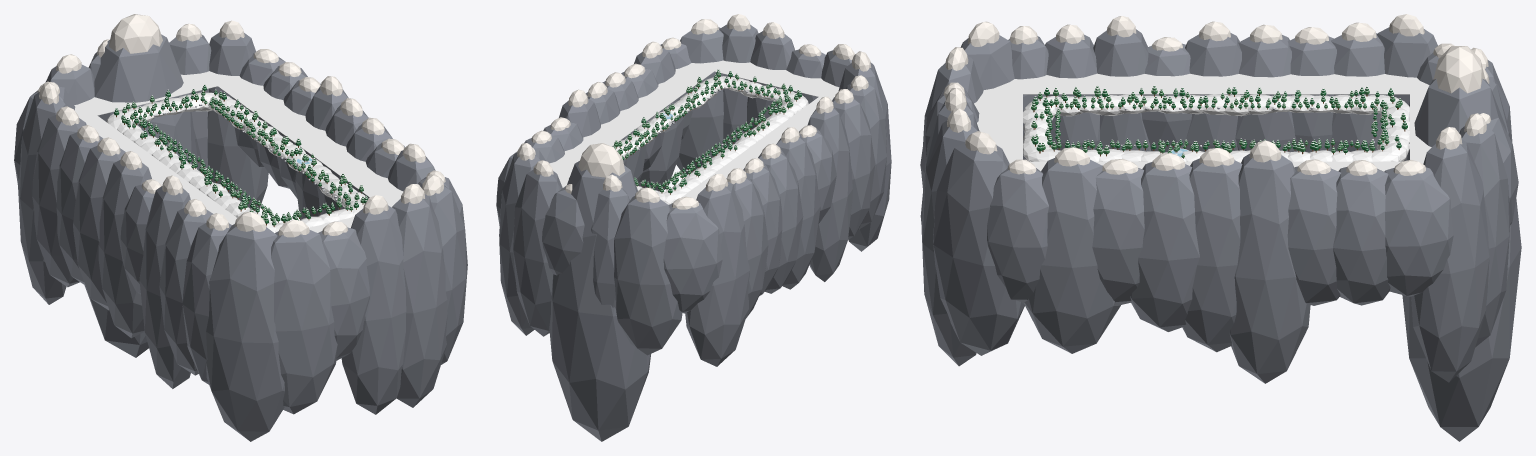
Rendered from CatCafe_Snowy_Backdrop.glb.
3 renders of one model, left to right at view 1: azimuth 30°, elevation 25°; view 2: azimuth 150°, elevation 25°; view 3: azimuth 270°, elevation 25°, orthographic. The views are drawn at different scales.
Visible parts, largest first — view 1: CatCafe_Snowy_Backdrop_HillsFar, CatCafe_Snowy_Backdrop_Snow, CatCafe_Snowy_Backdrop_Ground, CatCafe_Snowy_Backdrop_Hills, CatCafe_Snowy_Backdrop; view 2: CatCafe_Snowy_Backdrop_HillsFar, CatCafe_Snowy_Backdrop_Snow, CatCafe_Snowy_Backdrop_Ground, CatCafe_Snowy_Backdrop_Hills, CatCafe_Snowy_Backdrop; view 3: CatCafe_Snowy_Backdrop_HillsFar, CatCafe_Snowy_Backdrop_Snow, CatCafe_Snowy_Backdrop_Ground, CatCafe_Snowy_Backdrop_Hills, CatCafe_Snowy_Backdrop.
Part boxes in pixels (<box>): CatCafe_Snowy_Backdrop_HillsFar: <box>14,32,467,441</box>; CatCafe_Snowy_Backdrop_Snow: <box>37,14,445,237</box>; CatCafe_Snowy_Backdrop_Ground: <box>74,71,403,232</box>; CatCafe_Snowy_Backdrop_Hills: <box>106,92,365,232</box>; CatCafe_Snowy_Backdrop: <box>114,84,367,226</box>; CatCafe_Snowy_Backdrop_HillsFar: <box>496,24,891,441</box>; CatCafe_Snowy_Backdrop_Snow: <box>516,14,871,209</box>; CatCafe_Snowy_Backdrop_Ground: <box>549,60,839,204</box>; CatCafe_Snowy_Backdrop_Hills: <box>615,76,808,203</box>; CatCafe_Snowy_Backdrop: <box>612,69,801,194</box>; CatCafe_Snowy_Backdrop_HillsFar: <box>920,27,1521,441</box>; CatCafe_Snowy_Backdrop_Snow: <box>943,14,1490,175</box>; CatCafe_Snowy_Backdrop_Ground: <box>974,73,1431,171</box>; CatCafe_Snowy_Backdrop_Hills: <box>1023,94,1409,161</box>; CatCafe_Snowy_Backdrop: <box>1031,85,1407,158</box>.
Bounding box in the file's own units: 725 × 844 × 1166.
1 material, 1 textured.
